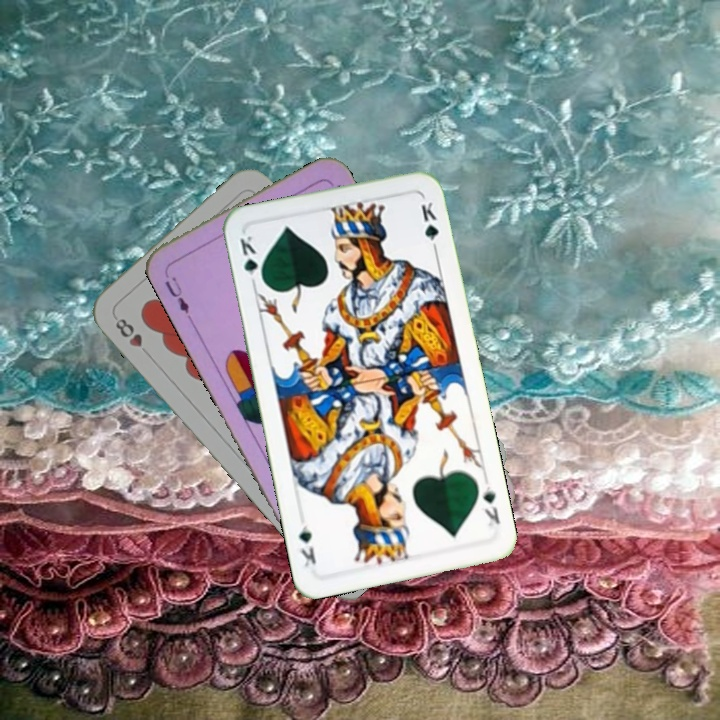EU: (160, 272, 192, 316)
GK: (236, 231, 266, 289), (479, 482, 503, 529)
H8: (111, 314, 152, 360)
